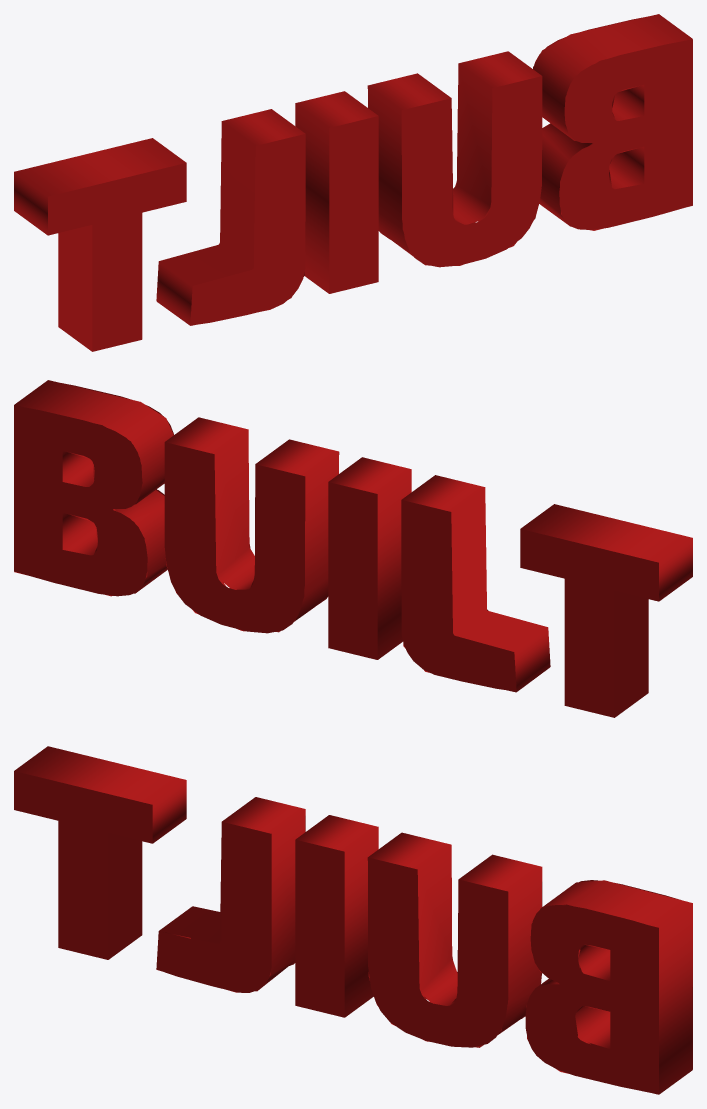
The model's file is built.fbx.
The picture shows the model from 3 angles, top to bottom: view 1: azimuth 30°, elevation 25°; view 2: azimuth 150°, elevation 25°; view 3: azimuth 330°, elevation 25°; orthographic projection.
Parts seen in each view (by area): view 1: Text; view 2: Text; view 3: Text.
Boxes of the visible parts, left/top/right/bottom form: Text: left=14, top=14, right=692, bottom=351; Text: left=14, top=380, right=692, bottom=717; Text: left=14, top=746, right=692, bottom=1094.
Bounding box in the file's own units: 8.78 × 2.24 × 0.8.
